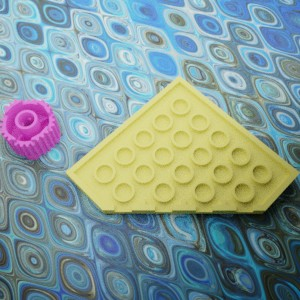lego: (65, 75, 300, 213), (0, 98, 60, 159)
